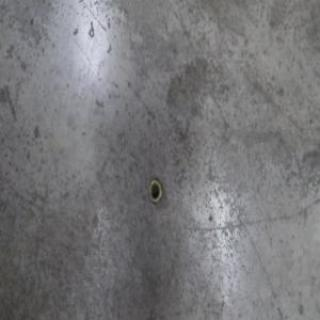Nuttrack_idkeyframe: (147, 177, 162, 205)
